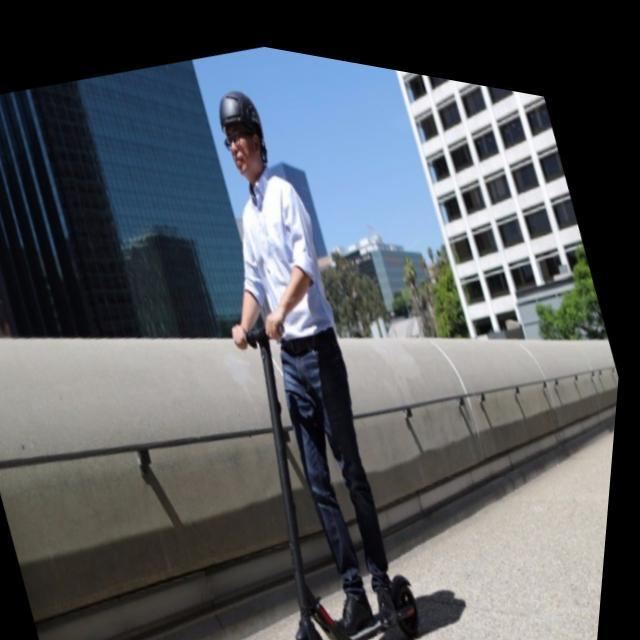Helmet: (214, 80, 274, 185)
